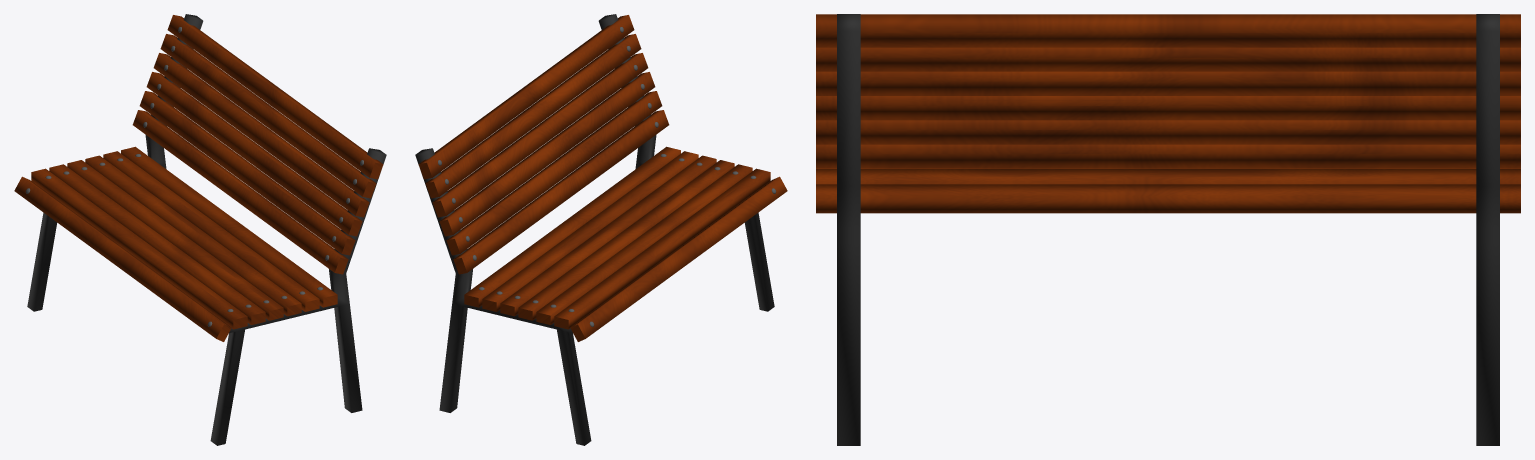
The model's file is bench.glb.
3 views of the same model, side by side, from view 1: azimuth 30°, elevation 25°; view 2: azimuth 150°, elevation 25°; view 3: azimuth 270°, elevation 25° (orthographic). The views are drawn at different scales.
Parts seen in each view (by area): view 1: Bench; view 2: Bench; view 3: Bench.
Part boxes in pixels (left/top/right/bottom): Bench: left=14, top=14, right=386, bottom=445; Bench: left=415, top=14, right=787, bottom=445; Bench: left=816, top=14, right=1520, bottom=445.
Size of the model in its own units: 3.64 by 5.01 by 7.22.
3 materials, 1 textured.
